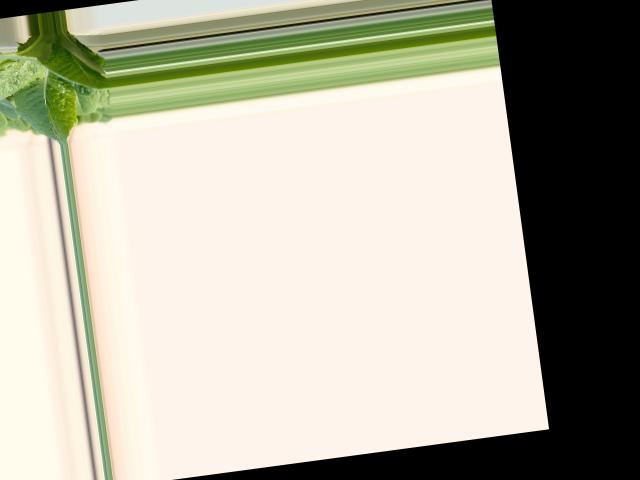lettuce: (1, 26, 112, 140)
